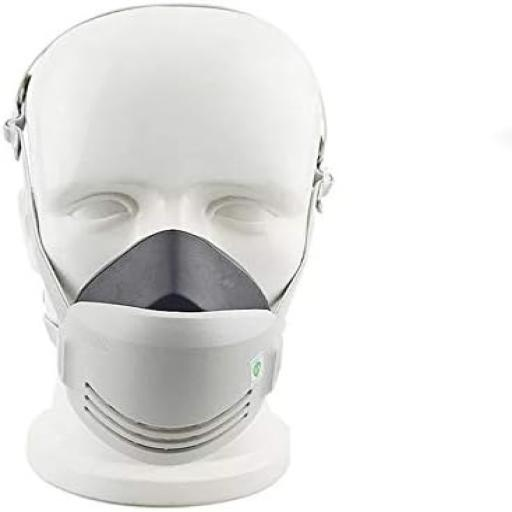mask: (27, 274, 334, 468)
